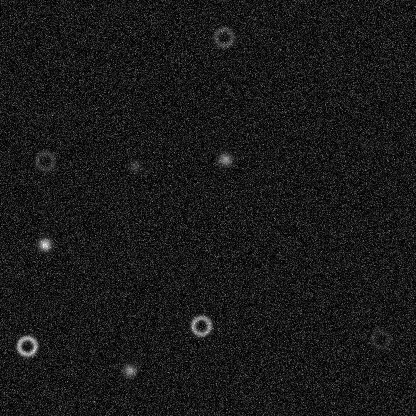Ring: (32, 148, 56, 172), (189, 313, 213, 337), (14, 333, 38, 357), (368, 326, 392, 350), (211, 25, 235, 49)
Spot: (127, 158, 143, 174), (36, 236, 52, 252), (121, 362, 137, 378), (217, 151, 233, 167)
